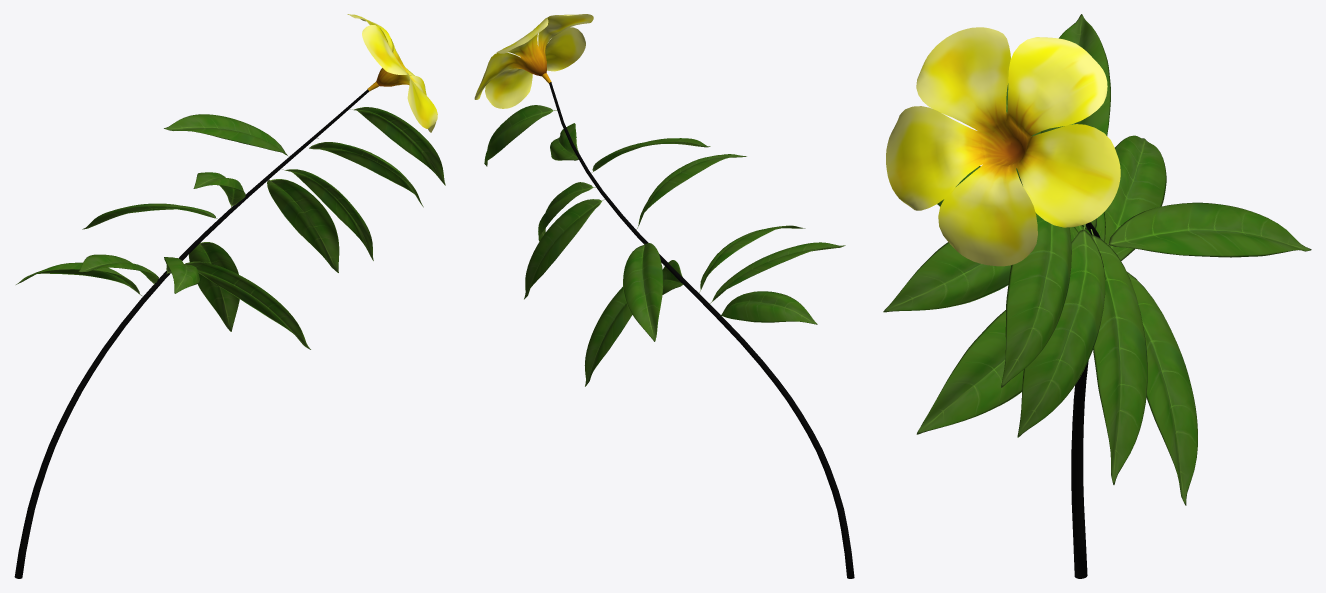
File: Asset_Flower.fbx
The picture shows the model from 3 angles, left to right: view 1: azimuth 30°, elevation 25°; view 2: azimuth 150°, elevation 25°; view 3: azimuth 270°, elevation 25°; orthographic projection. The views are drawn at different scales.
Visible parts, largest first — view 1: Flower; view 2: Flower; view 3: Flower.
Boxes of the visible parts, <box> form: Flower: <box>14,14,445,578</box>; Flower: <box>474,14,854,578</box>; Flower: <box>883,14,1311,578</box>.
Size of the model in its own units: 211 by 243 by 118.
